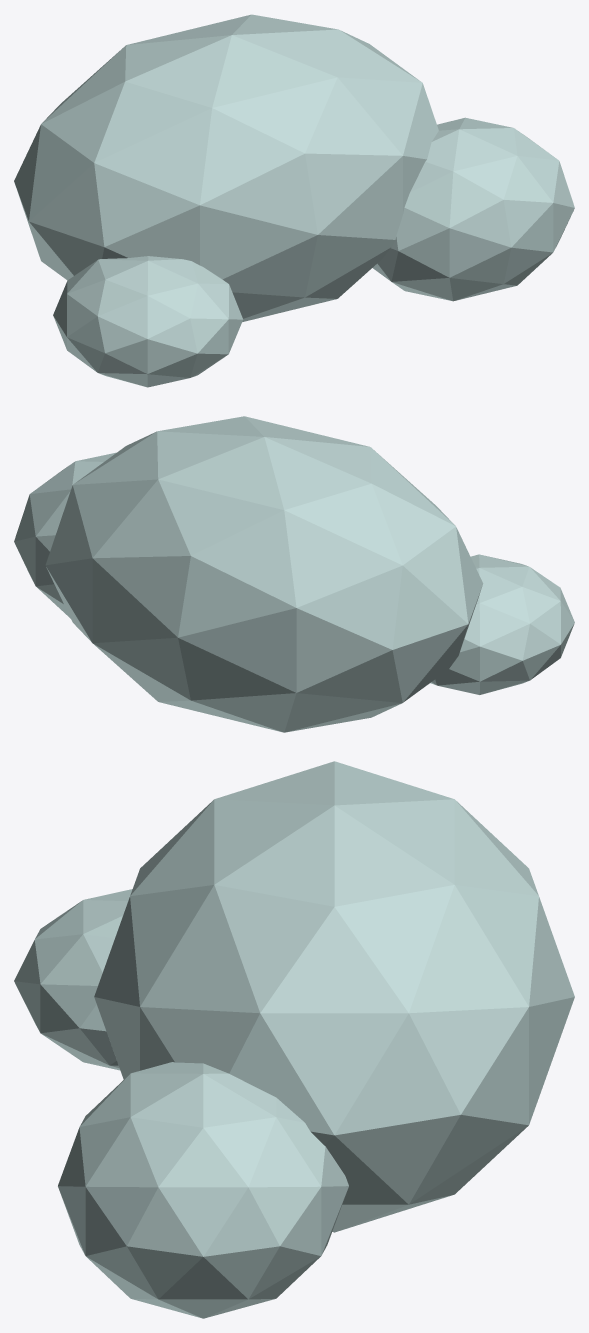
File: shore_rock_cluster_quiet_lake_fishing_22420.glb
3 renders of one model, top to bottom at view 1: azimuth 30°, elevation 25°; view 2: azimuth 150°, elevation 25°; view 3: azimuth 270°, elevation 25°, orthographic. The views are drawn at different scales.
Visible parts, largest first — view 1: silver; view 2: silver; view 3: silver.
Part boxes in pixels (x1,y1,x2,y2): silver: [14, 14, 574, 387]; silver: [14, 416, 574, 732]; silver: [14, 761, 574, 1318].
Bounding box in the file's own units: 1.14 × 0.58 × 0.7701.
